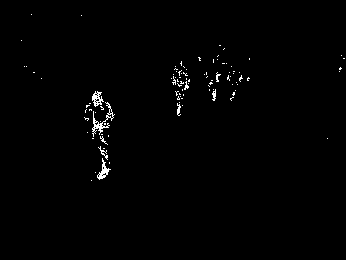person: (84, 92, 116, 180), (170, 62, 190, 117)
